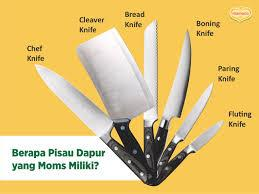knives: (25, 37, 240, 190)
